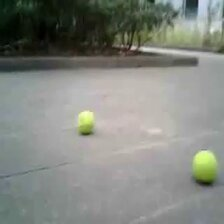tennis: (191, 150, 217, 183), (76, 110, 95, 131)
